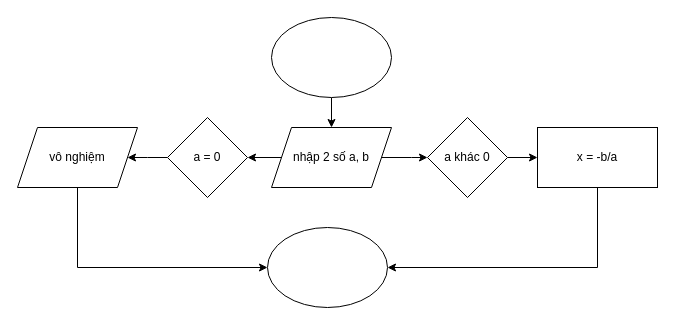
Image size: 675x325. Some labels were removed from this diagram. The centre of each missing label's shape, as x and y in pixels:
bắt đầu: (331,57)
kết thúc: (327,267)
